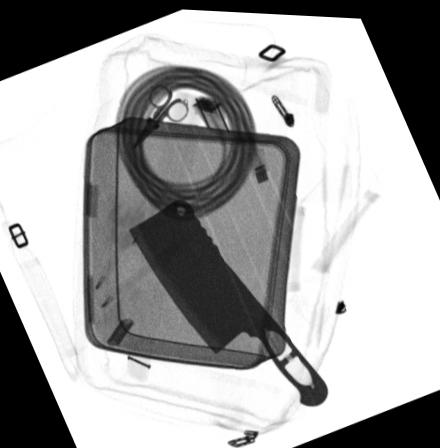Knife: (129, 197, 329, 403)
Scissors: (130, 82, 190, 149)
